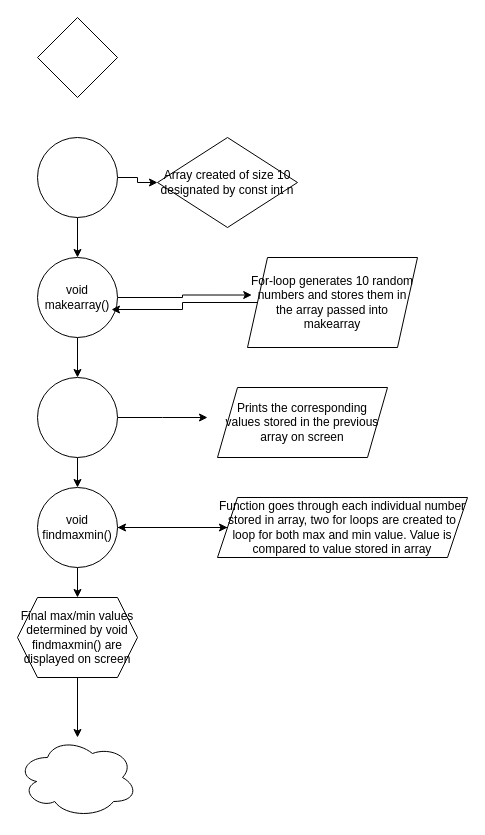
Image size: 485x835. Some labels were removed from this diagram. The shapes that lost their labels are listed below. From the top down, each one's centre as x and y in pixels, then its label:
At pixel 77 177: "Program started through int main()".
At pixel 77 417: "void printarray()".
At pixel 77 777: "Termination of program".
